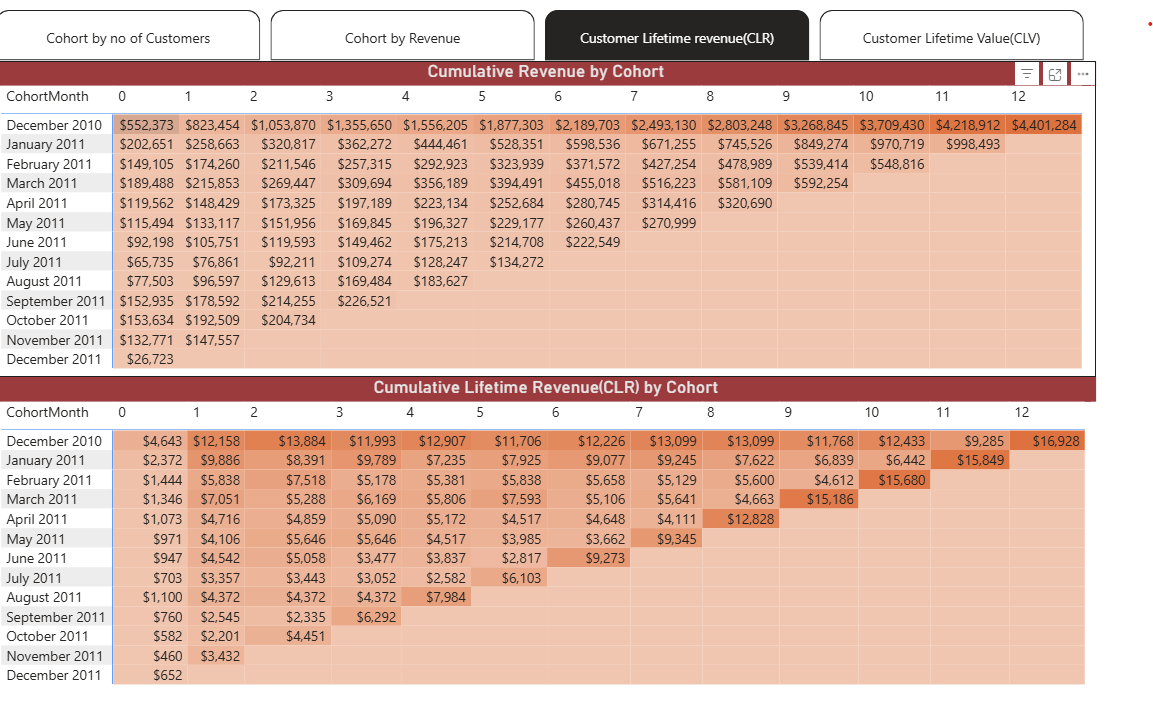

The page's visual inventory and layout, read from the dashboard file:
{"tool":"powerbi","page":{"name":"Customer Lifetime revenue(CLR)","canvas":[1280,720],"ordinal":2},"visuals":[{"type":"pivotTable","title":"Cumulative Revenue by Cohort","fields":{"Rows":["Customers.CohortMonth"],"Columns":["Cohort Analysis.CohortIndex"],"Values":["_Measures.CumulativeRevenue"]},"box":[0,79.8,1069.9,307.4],"z":0},{"type":"pivotTable","title":"Cumulative Lifetime Revenue(CLR) by Cohort","fields":{"Rows":["Customers.CohortMonth"],"Columns":["Cohort Analysis.CohortIndex"],"Values":["_Measures.CLR_by_Cohort"]},"box":[0,387.1,1069.9,332.6],"z":1000},{"type":"pageNavigator","box":[0,30.2,1058.2,49.6],"z":2000}]}

Visuals, with their boxes on the page's 1280x720 design canvas (x1, y1, x2, y2). These are canvas units, not pixel positions in the 1153x706 screenshot, which may show the page scaled, cropped or inside an application window:
"Cumulative Revenue by Cohort" pivotTable: (0, 80, 1070, 387)
"Cumulative Lifetime Revenue(CLR) by Cohort" pivotTable: (0, 387, 1070, 720)
pageNavigator: (0, 30, 1058, 80)
